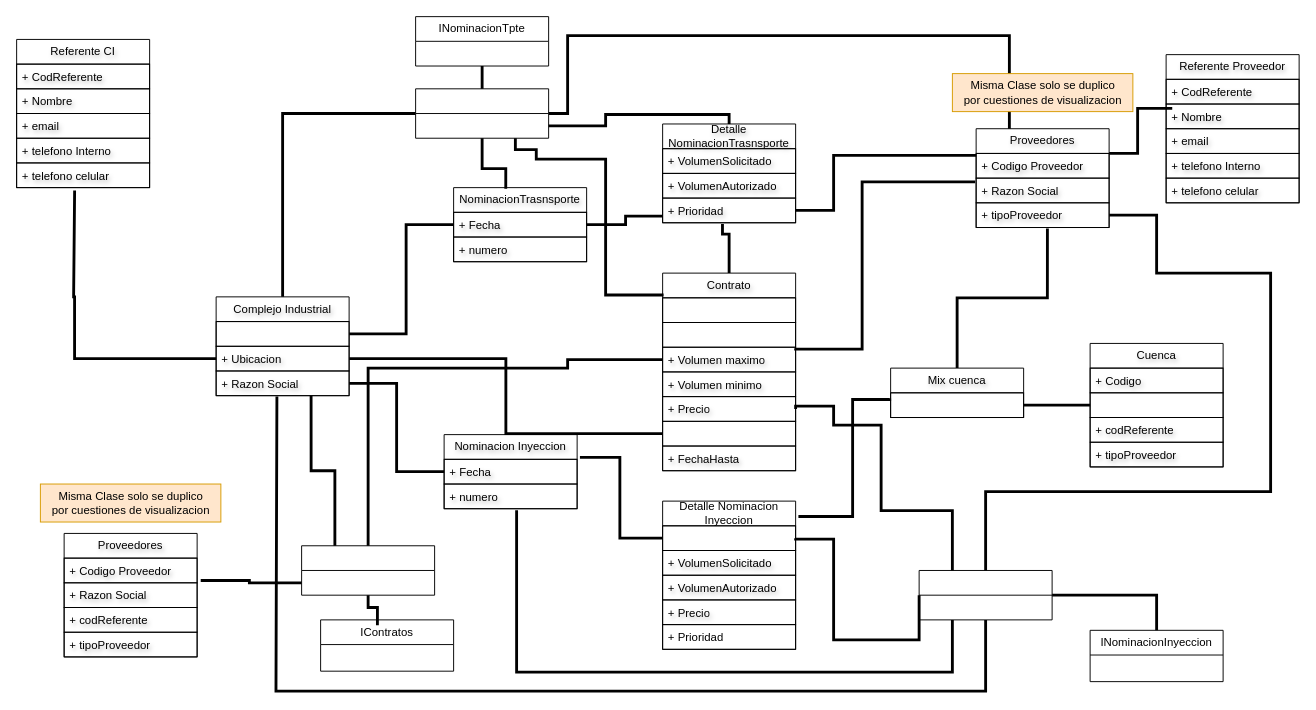
This 1316x710 diagram has some shape labels left out. The shapes that lost their labels are listed below. From the top down, each one's centre as x and y in pixels, then its label:
At (x=482, y=113): "CNominacionTpte".
At (x=729, y=310): "+ nroContrato".
At (x=282, y=333): "+ Codigo CI".
At (x=729, y=334): "+ tipoContrato".
At (x=957, y=405): "+ Porcentaje".
At (x=1156, y=405): "+ Zona".
At (x=729, y=433): "+ FechaDesde".
At (x=729, y=538): "+ TipoGas".
At (x=368, y=570): "CContratos".
At (x=985, y=595): "CNominacionInyeccion".
